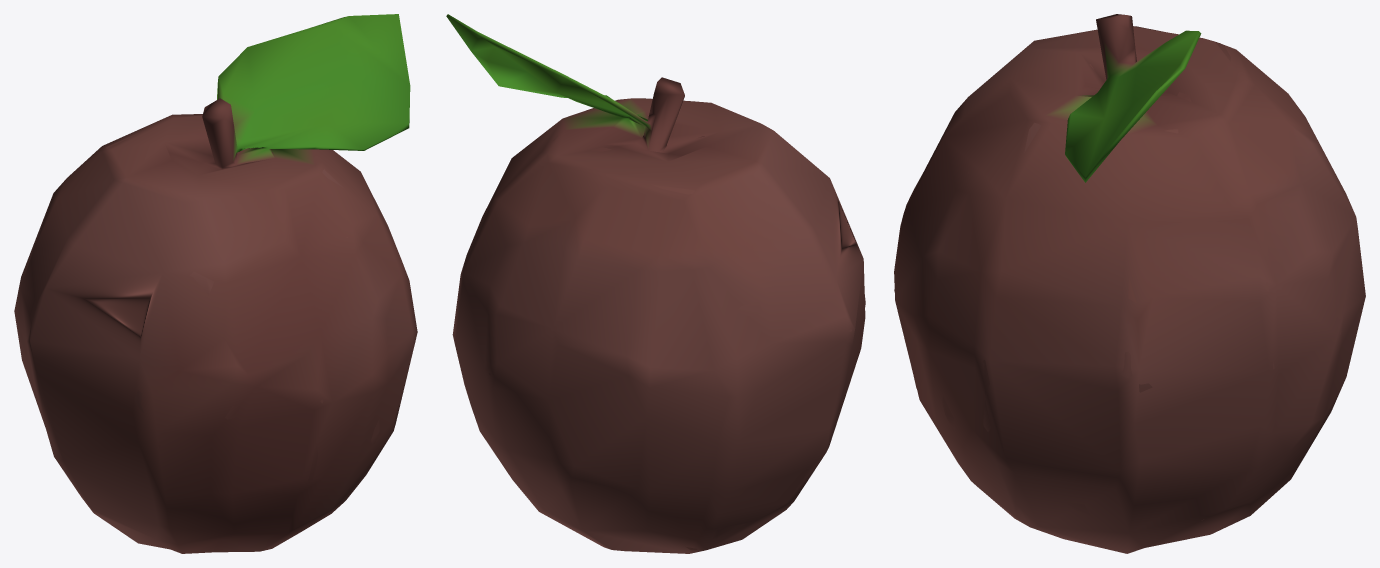
Rendered from gen3d-peach-lod1.glb.
3 views of the same model, side by side, from view 1: azimuth 30°, elevation 25°; view 2: azimuth 150°, elevation 25°; view 3: azimuth 270°, elevation 25° (orthographic). The views are drawn at different scales.
Visible parts, largest first — view 1: part_0; view 2: part_0; view 3: part_0.
Part boxes in pixels (<box>): part_0: <box>14,14,417,553</box>; part_0: <box>446,14,865,553</box>; part_0: <box>894,14,1365,553</box>.
Size of the model in its own units: 0.8666 by 0.9985 by 0.7853.
